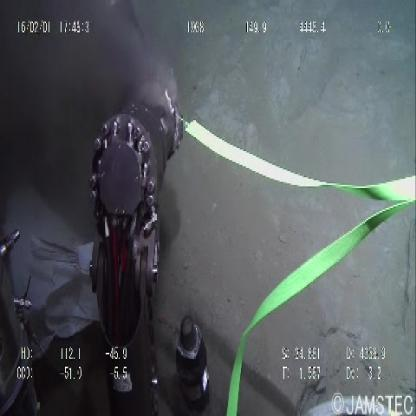Rov: (87, 74, 218, 414)
Rác: (6, 192, 104, 358)
